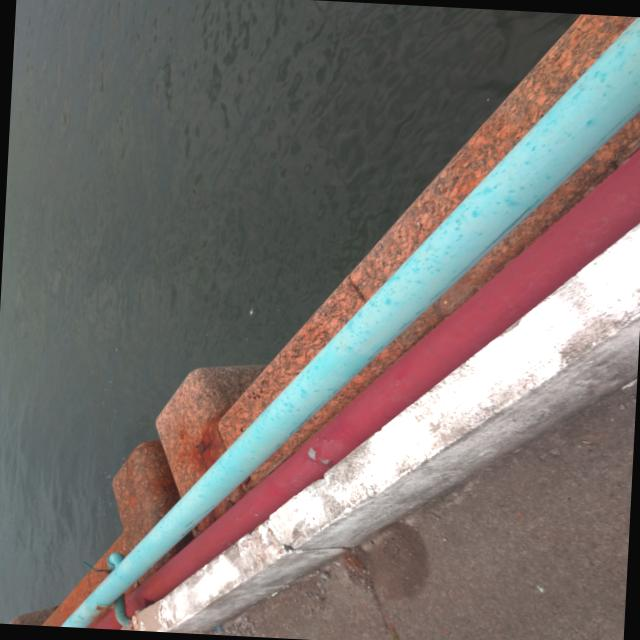gas: (61, 16, 640, 627), (91, 151, 640, 629)
